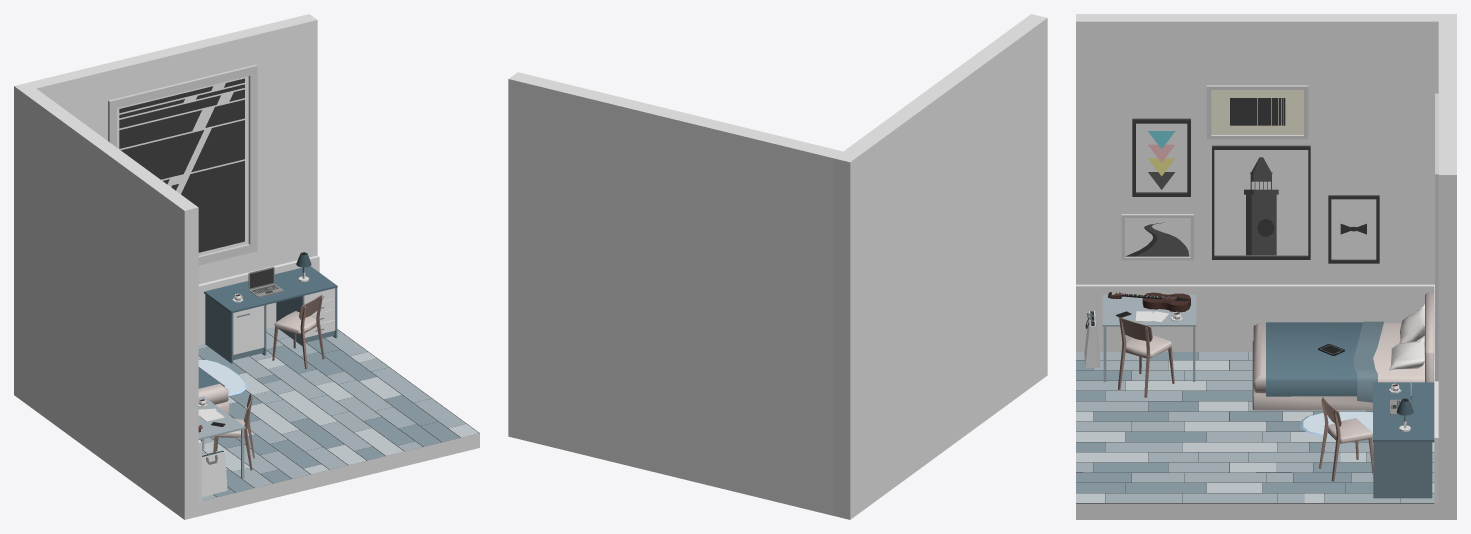
Rendered from room_10.glb.
3 views of the same model, side by side, from view 1: azimuth 30°, elevation 25°; view 2: azimuth 150°, elevation 25°; view 3: azimuth 270°, elevation 25° (orthographic). The views are drawn at different scales.
Parts seen in each view (by area): view 1: Walls_006.011, Walls_006.010, floor_010.001, picture_012.003, office_table_038.001, Walls_011.005, Walls_003.018, kitchen_chair_030.003, kitchen_table_007.002, prop_015.001, carpet_005.001, bed_017.001 (+2 smaller); view 2: Walls_006.010, Walls_006.011; view 3: Walls_006.011, floor_010.001, bed_017.001, Walls_003.019, picture_001.002, Walls_011.005, Walls_006.010, office_table_038.001, picture_011.002, picture_050.001, picture_013.002, picture_010.002 (+8 smaller).
Boxes of the visible parts, box(x1,y1,x2,y2) form: Walls_006.011: box(14, 82, 198, 519); Walls_006.010: box(28, 14, 317, 284); floor_010.001: box(198, 326, 478, 500); picture_012.003: box(108, 64, 257, 265); office_table_038.001: box(204, 266, 337, 363); Walls_011.005: box(198, 329, 479, 516); Walls_003.018: box(198, 255, 319, 344); kitchen_chair_030.003: box(272, 294, 324, 369); kitchen_table_007.002: box(198, 396, 245, 478); prop_015.001: box(202, 450, 227, 497); carpet_005.001: box(198, 359, 246, 396); bed_017.001: box(198, 367, 229, 414); Walls_006.010: box(508, 72, 842, 515); Walls_006.011: box(834, 14, 1047, 519); Walls_006.011: box(1076, 14, 1456, 284); floor_010.001: box(1076, 352, 1434, 502); bed_017.001: box(1252, 293, 1434, 410); Walls_003.019: box(1076, 284, 1434, 351); picture_001.002: box(1212, 145, 1310, 259); Walls_011.005: box(1076, 352, 1438, 519); Walls_006.010: box(1438, 21, 1456, 519); office_table_038.001: box(1373, 382, 1434, 498); picture_011.002: box(1206, 85, 1308, 139); picture_050.001: box(1132, 118, 1190, 196); picture_013.002: box(1328, 195, 1379, 263); picture_010.002: box(1121, 214, 1193, 260).
Size of the model in its own units: 4.2 by 4.2 by 4.2.
1 material, 1 textured.
